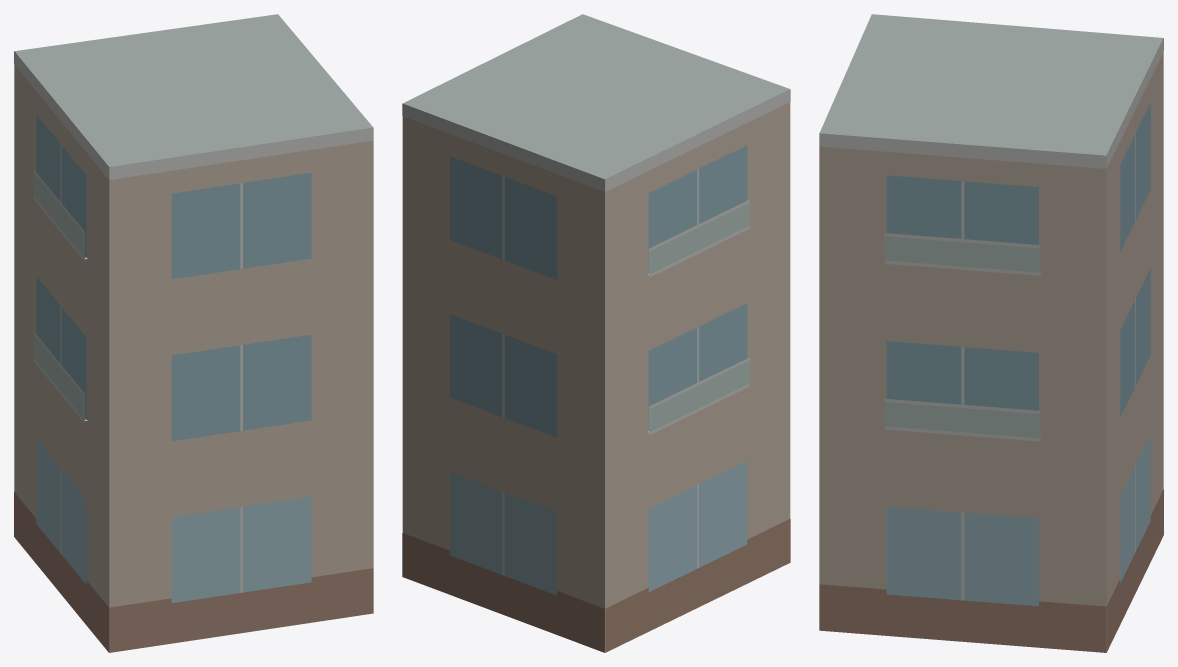
The model's file is survey-upis-32987226.glb.
3 views of the same model, side by side, from view 1: azimuth 30°, elevation 25°; view 2: azimuth 150°, elevation 25°; view 3: azimuth 270°, elevation 25° (orthographic). The views are drawn at different scales.
Visible parts, largest first — view 1: survey-upis-32987226.tmp; view 2: survey-upis-32987226.tmp; view 3: survey-upis-32987226.tmp.
Part boxes in pixels (x1,y1,x2,y2): survey-upis-32987226.tmp: [14, 14, 373, 652]; survey-upis-32987226.tmp: [402, 14, 790, 652]; survey-upis-32987226.tmp: [819, 14, 1163, 652].
Bounding box in the file's own units: 5.6 × 9.15 × 5.75.
